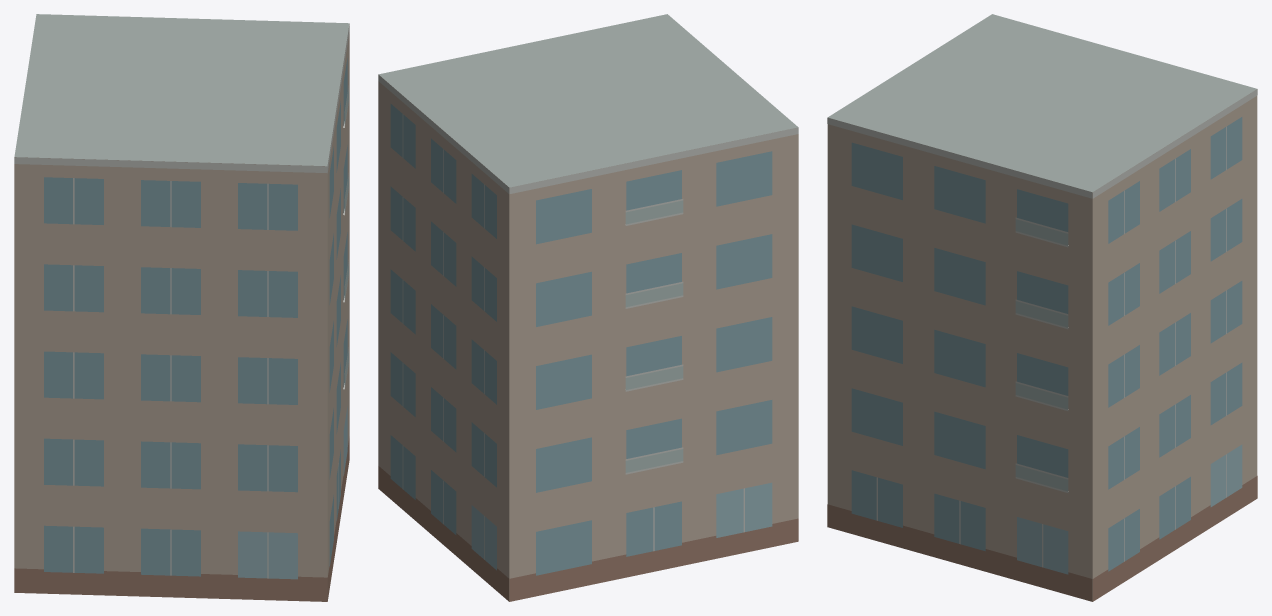
The model's file is survey-upis-32539934.glb.
3 views of the same model, side by side, from view 1: azimuth 30°, elevation 25°; view 2: azimuth 150°, elevation 25°; view 3: azimuth 270°, elevation 25° (orthographic). The views are drawn at different scales.
Visible parts, largest first — view 1: survey-upis-32539934.tmp; view 2: survey-upis-32539934.tmp; view 3: survey-upis-32539934.tmp.
Boxes of the visible parts, bbox=[...] form: survey-upis-32539934.tmp: bbox=[14, 14, 349, 601]; survey-upis-32539934.tmp: bbox=[378, 14, 798, 601]; survey-upis-32539934.tmp: bbox=[827, 14, 1257, 601].
Size of the model in its own units: 14.24 by 15.25 by 14.52.
